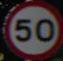Speed limit: (4, 3, 59, 53)
